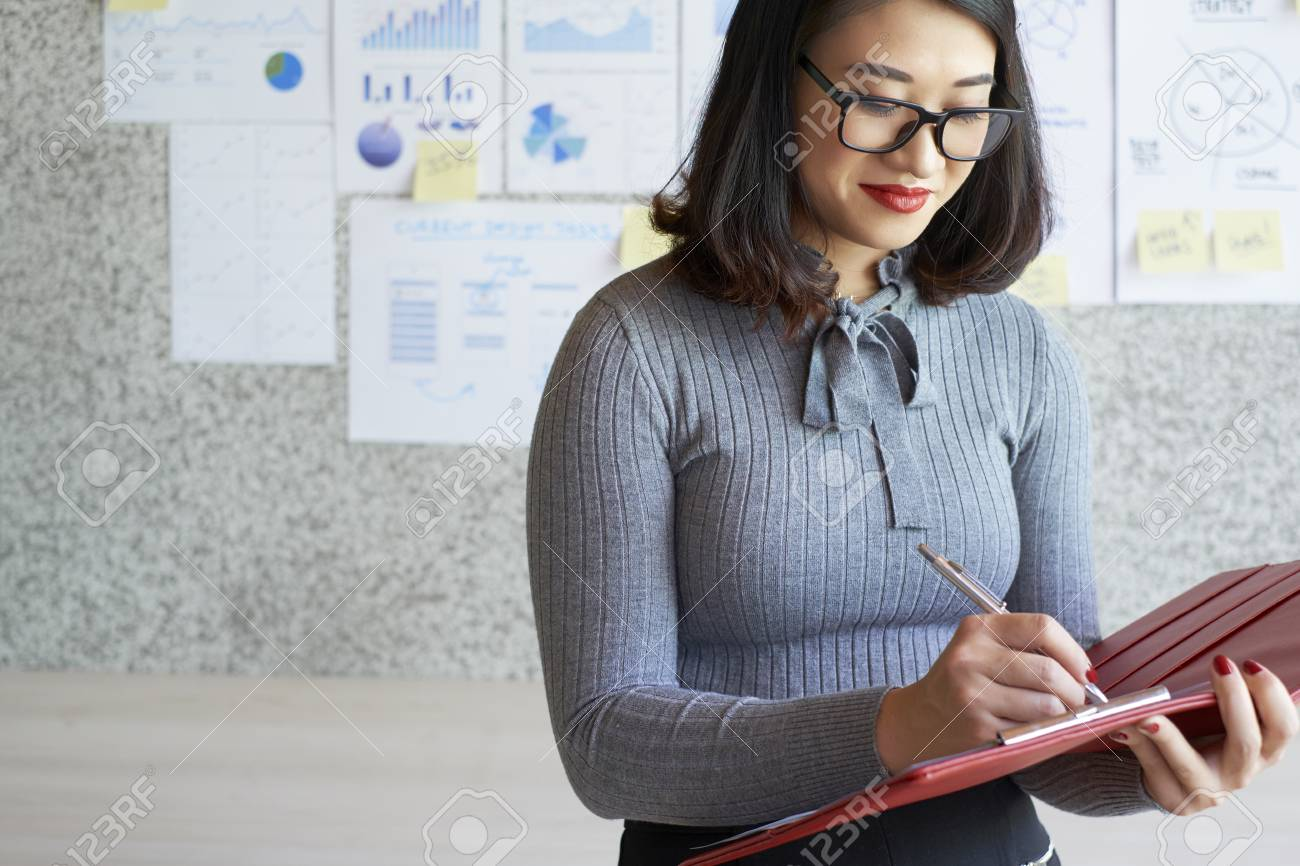red folder: (602, 560, 1277, 866)
